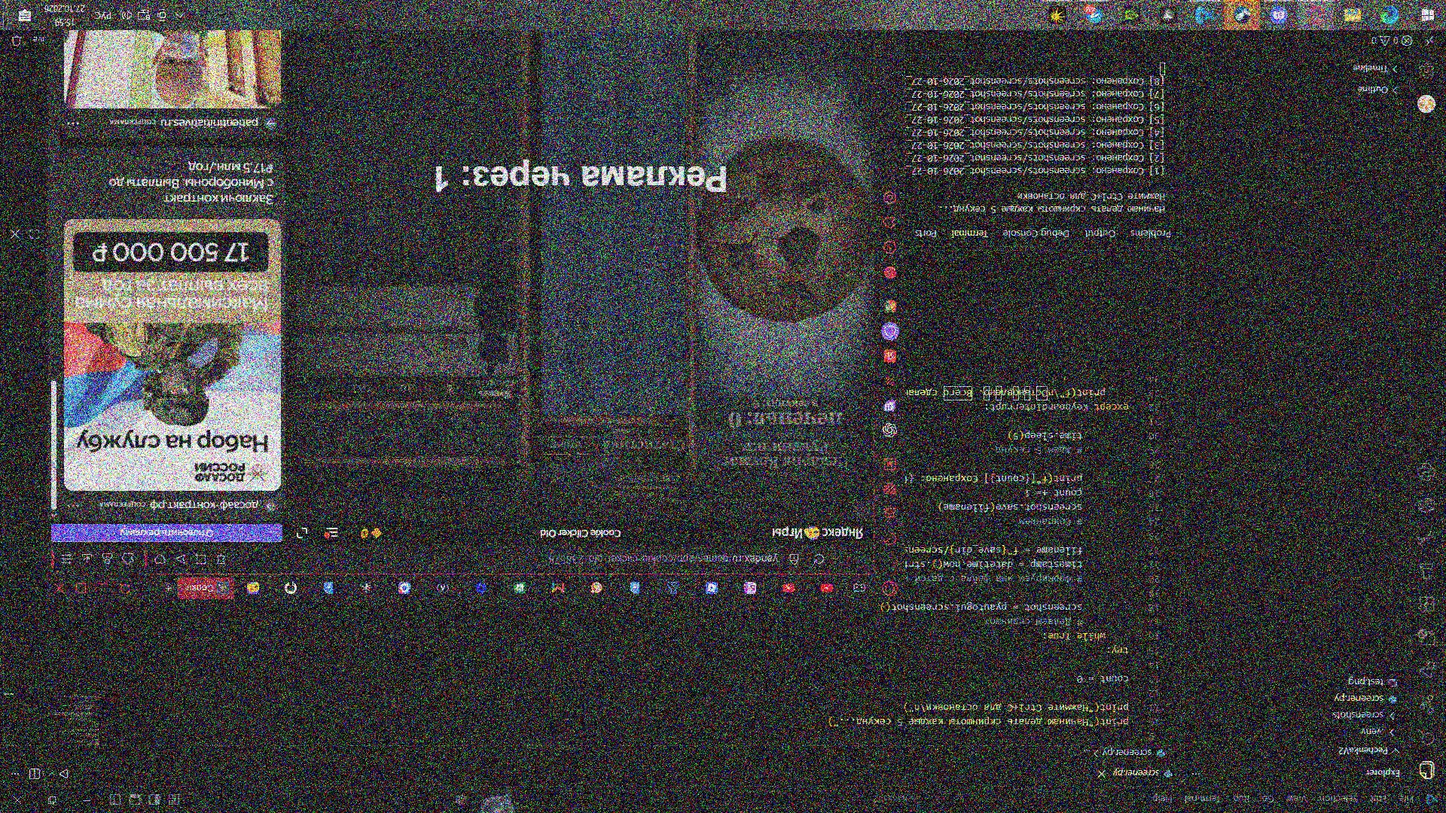game: (691, 131, 880, 340)
pokypki: (286, 272, 528, 392)
